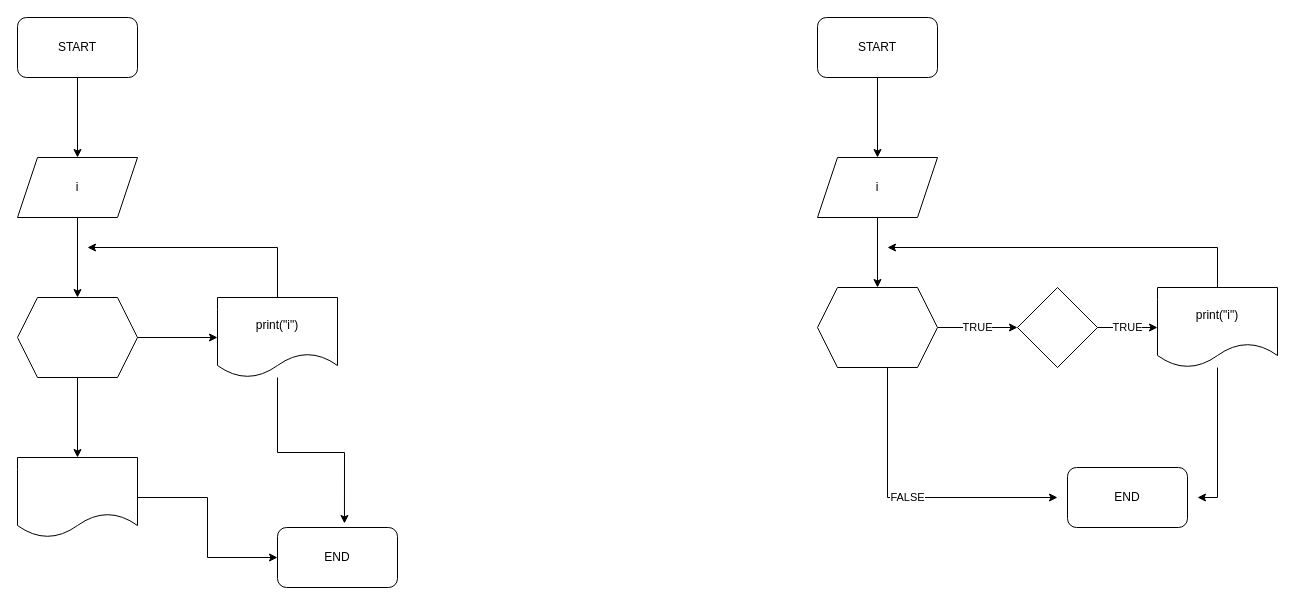
Image size: 1295x605. Some labels were removed from this diagram. The box of each missing label's shape, as (x1, y1, x2, y2) in pixels:
i%2==1: (1016, 286, 1098, 368)
i=1;i<20;i=i++: (816, 286, 938, 368)
i=3;i<=15;i++: (16, 296, 138, 378)
print("dovre gire bilmir"): (16, 456, 138, 538)
